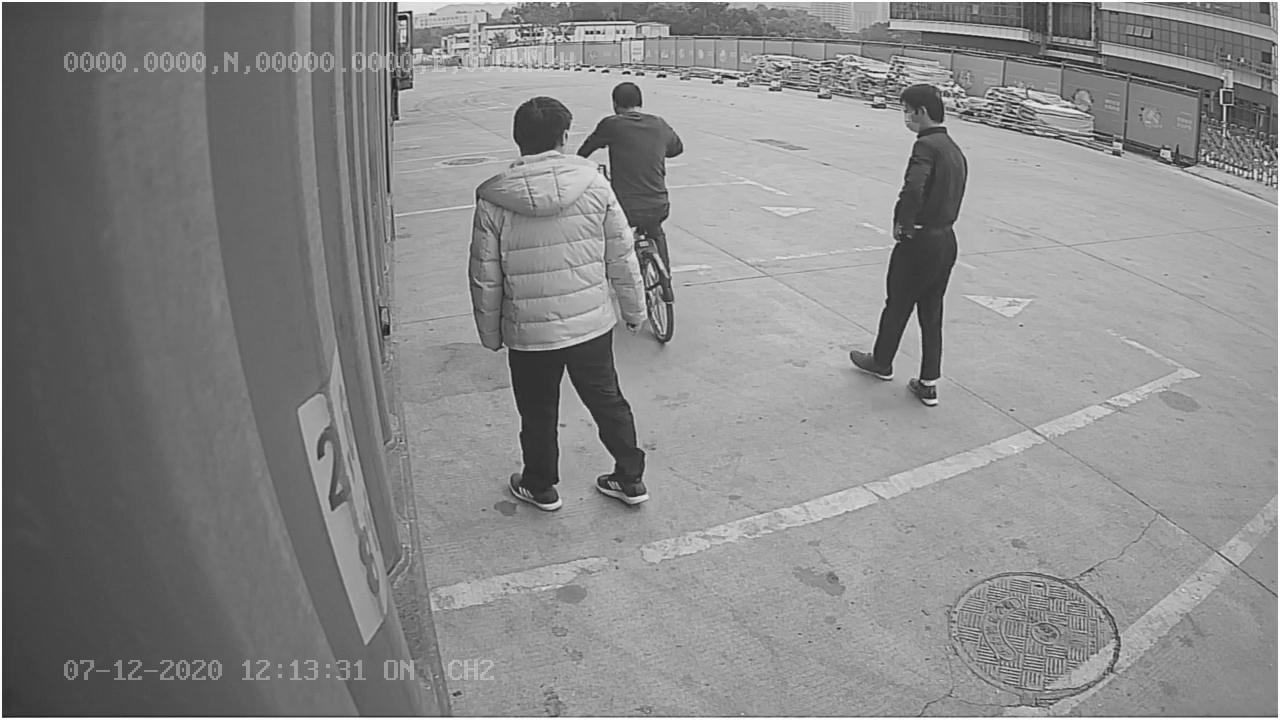person: (847, 80, 974, 410)
